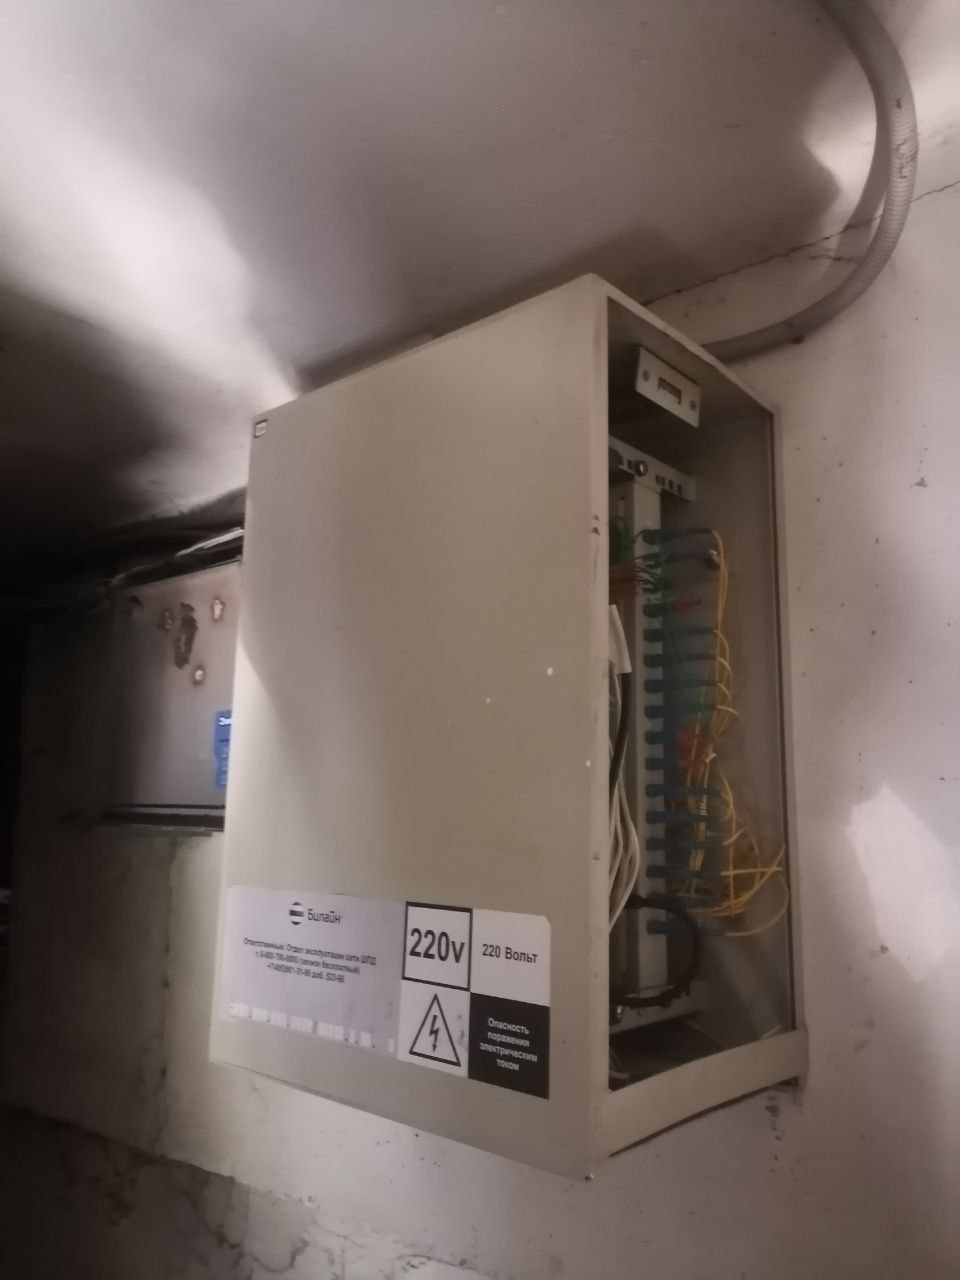sv-5: (192, 264, 819, 1192)
